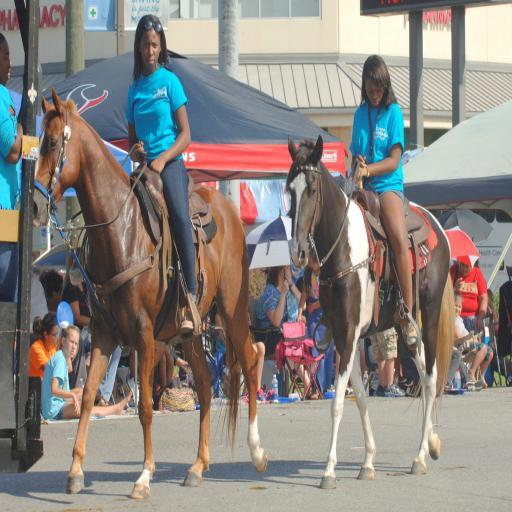Horse: (33, 85, 268, 499), (283, 133, 457, 489)
